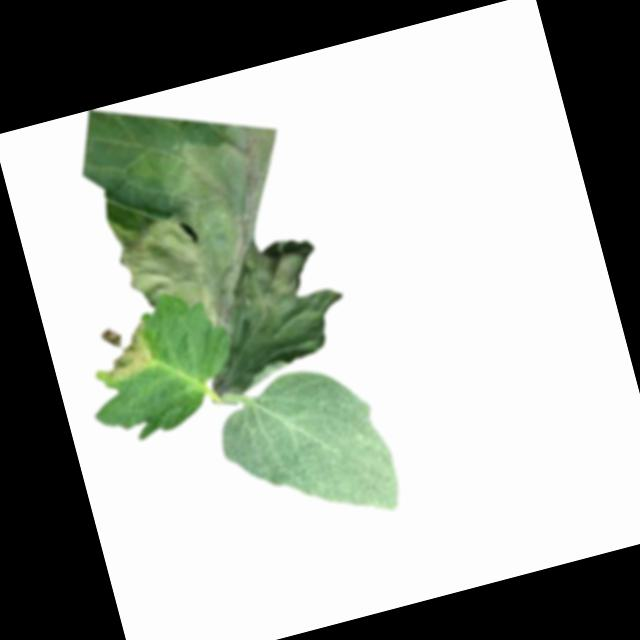Late_blight: (91, 105, 360, 411), (91, 317, 159, 382)
healthy: (206, 351, 407, 549)
